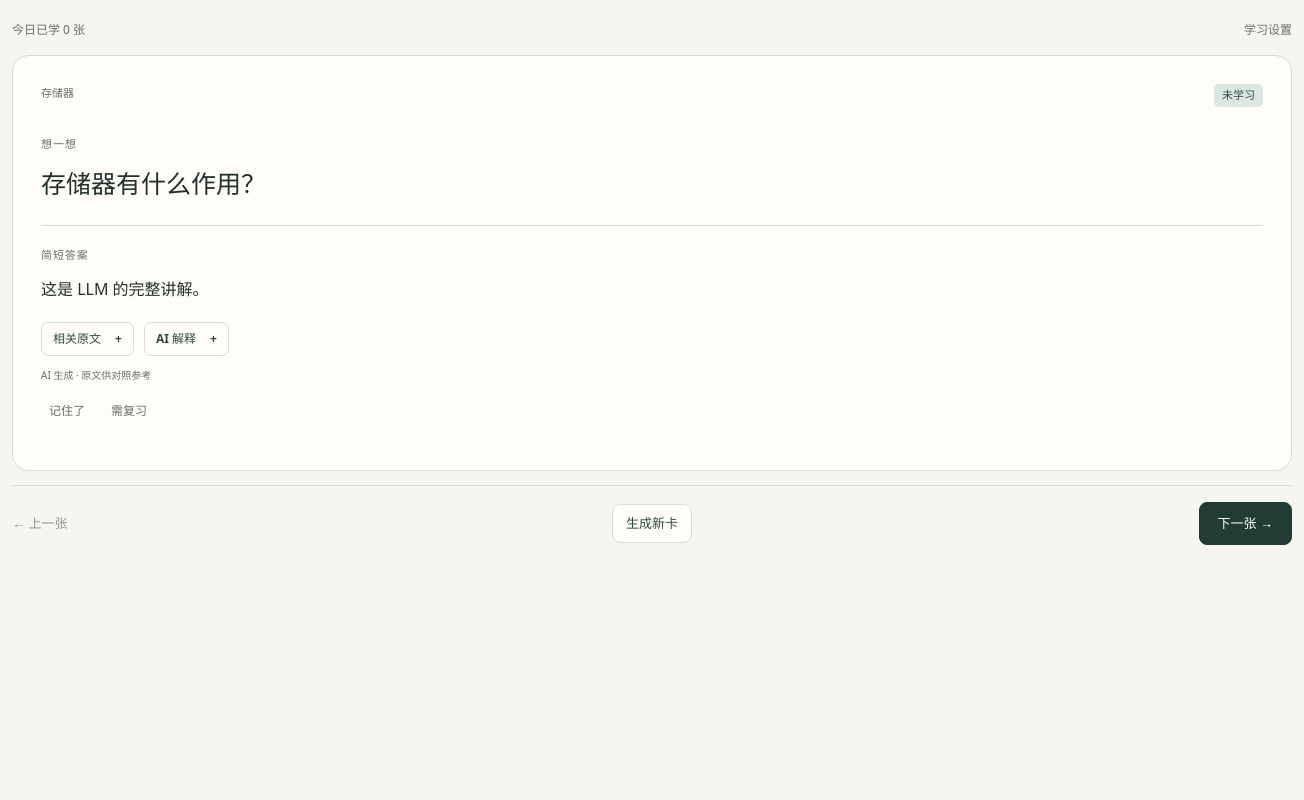
Test case: restores a prose fallback without requiring original text or an explanation field
Expected: the text "这是 LLM 的完整讲解。" is shown, left=41, top=278, right=209, bottom=300
Expected: the text "存储器" is shown, left=41, top=84, right=74, bottom=103
Click the button "相关原文 +": (87, 339) left=41, top=322, right=134, bottom=356
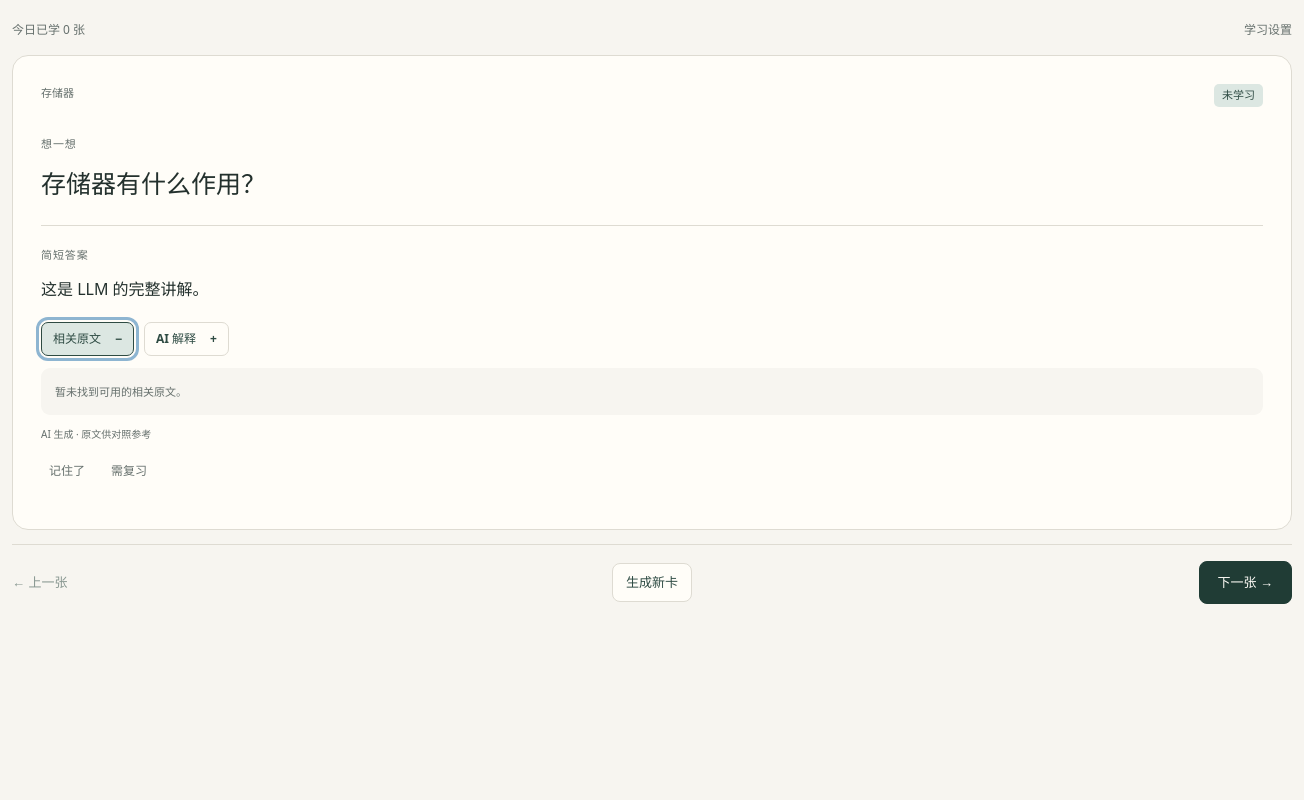
Expected: the text "暂未找到可用的相关原文。" is shown, left=55, top=384, right=187, bottom=399
Click the button "AI 解释 +": (186, 339) left=144, top=322, right=229, bottom=356
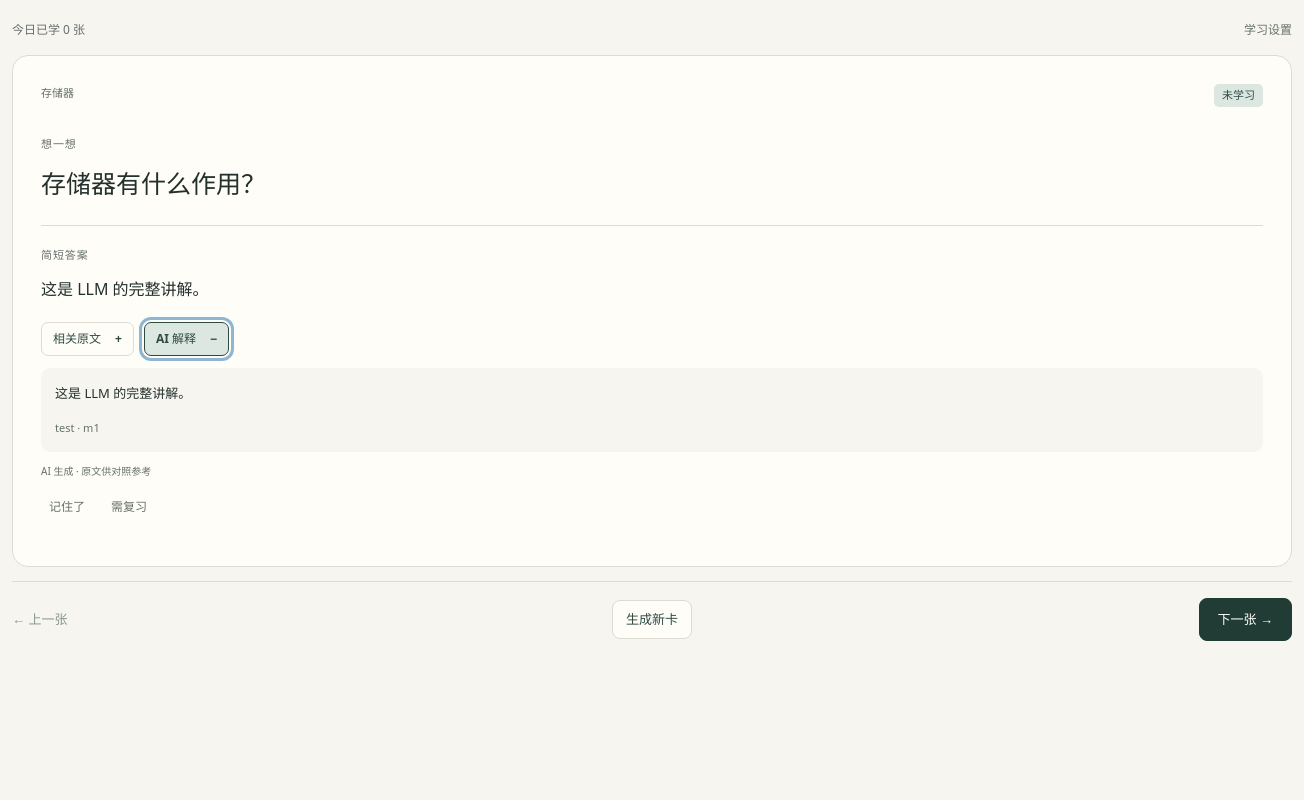
Expected: the 2nd text "这是 LLM 的完整讲解。" is shown, left=55, top=384, right=191, bottom=402
